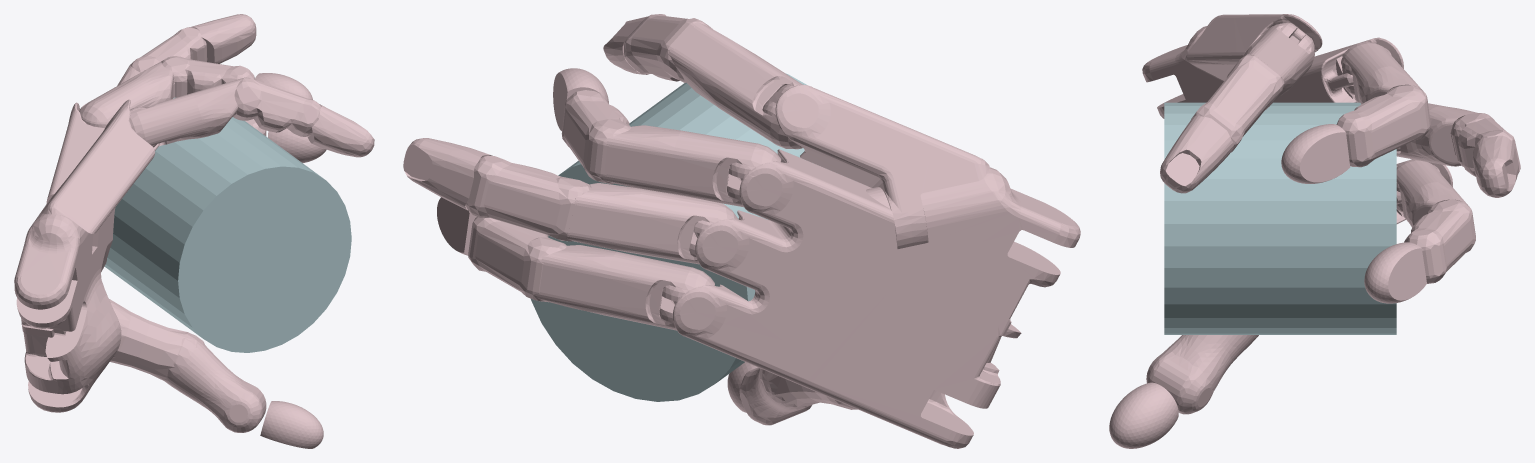
The model's file is grasp_2.glb.
The picture shows the model from 3 angles, left to right: view 1: azimuth 30°, elevation 25°; view 2: azimuth 150°, elevation 25°; view 3: azimuth 270°, elevation 25°; orthographic projection. The views are drawn at different scales.
Parts seen in each view (by area): view 1: world; view 2: world; view 3: world.
Part boxes in pixels (box(x1,y1,x2,y2)): world: box(14, 14, 374, 448); world: box(403, 14, 1080, 448); world: box(1109, 14, 1520, 448).
Size of the model in its own units: 0.1839 by 0.1461 by 0.1417.
